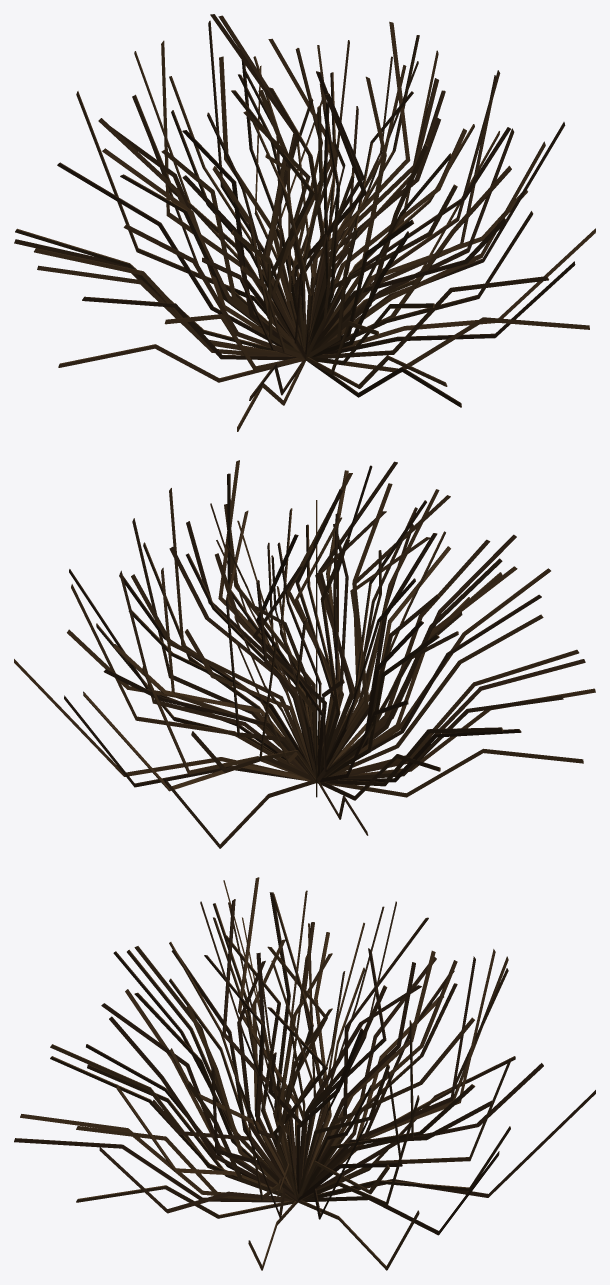
File: Bush1.fbx
The picture shows the model from 3 angles, top to bottom: view 1: azimuth 30°, elevation 25°; view 2: azimuth 150°, elevation 25°; view 3: azimuth 270°, elevation 25°; orthographic projection. The views are drawn at different scales.
Visible parts, largest first — view 1: pPlane15; view 2: pPlane15; view 3: pPlane15.
Boxes of the visible parts, x1,y1,x2,y2 form: pPlane15: (14,14,595,431); pPlane15: (14,460,595,848); pPlane15: (14,877,595,1270).
Bounding box in the file's own units: 17.92 × 10.63 × 18.63.
